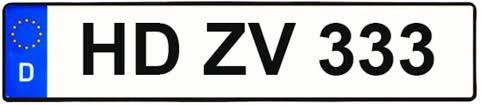3: (317, 21, 355, 77), (398, 22, 436, 77), (358, 23, 395, 77)
D: (134, 20, 181, 79)
H: (81, 20, 127, 78)
V: (247, 20, 297, 76)
Z: (202, 21, 247, 76)
